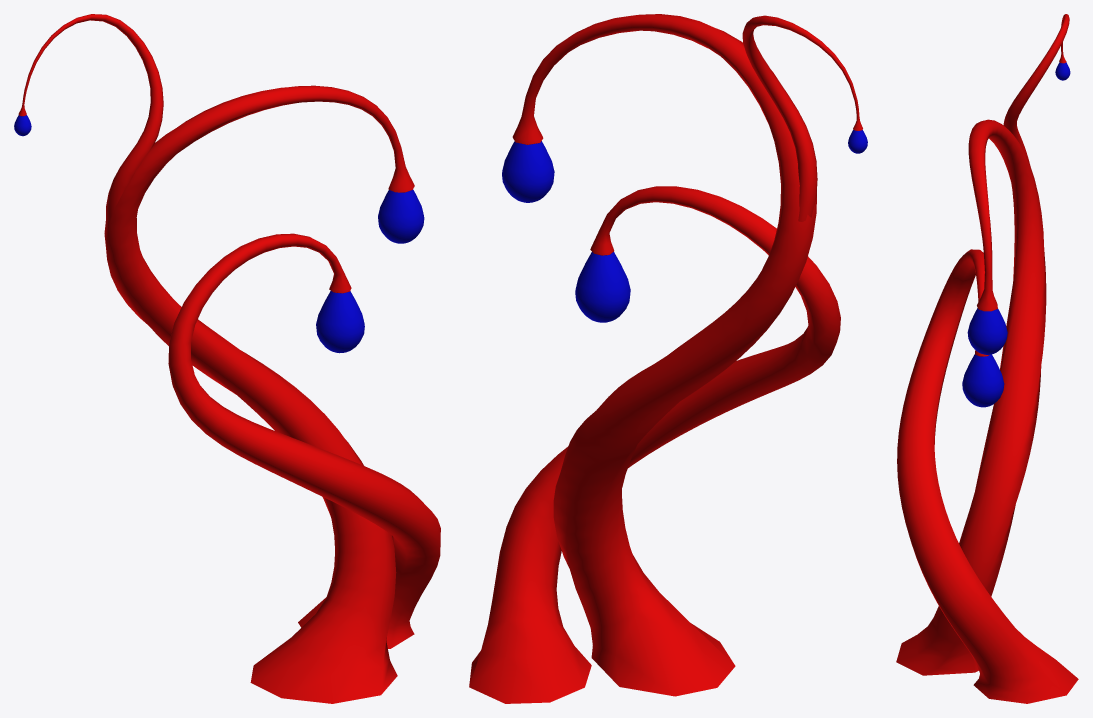
File: LampTree_01.fbx
3 renders of one model, left to right at view 1: azimuth 30°, elevation 25°; view 2: azimuth 150°, elevation 25°; view 3: azimuth 270°, elevation 25°, orthographic. The views are drawn at different scales.
Parts seen in each view (by area): view 1: LampTree_01; view 2: LampTree_01; view 3: LampTree_01.
Boxes of the visible parts, x1,y1,x2,y2 form: LampTree_01: (14,14,440,703); LampTree_01: (469,14,867,703); LampTree_01: (896,14,1078,703).
Size of the model in its own units: 181 by 307 by 90.43.
